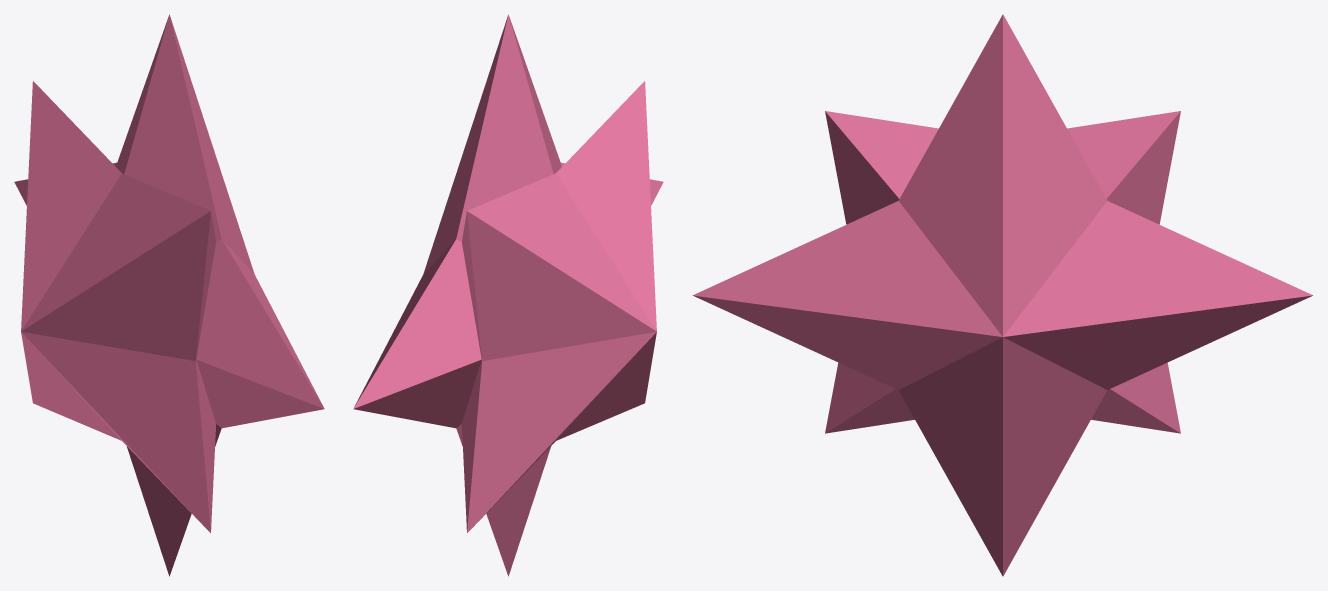
File: StarShardSymetric.fbx
3 views of the same model, side by side, from view 1: azimuth 30°, elevation 25°; view 2: azimuth 150°, elevation 25°; view 3: azimuth 270°, elevation 25° (orthographic).
Parts seen in each view (by area): view 1: StarSliver.001, StarSliver; view 2: StarSliver.001, StarSliver; view 3: StarSliver, StarSliver.001.
Boxes of the visible parts, box(x1,y1,x2,y2) form: StarSliver.001: box(21, 81, 215, 532); StarSliver: box(14, 14, 324, 576); StarSliver.001: box(462, 81, 656, 532); StarSliver: box(353, 14, 663, 576); StarSliver: box(692, 14, 1313, 576); StarSliver.001: box(825, 111, 1180, 433).
Size of the model in its own units: 158 by 362 by 362.
